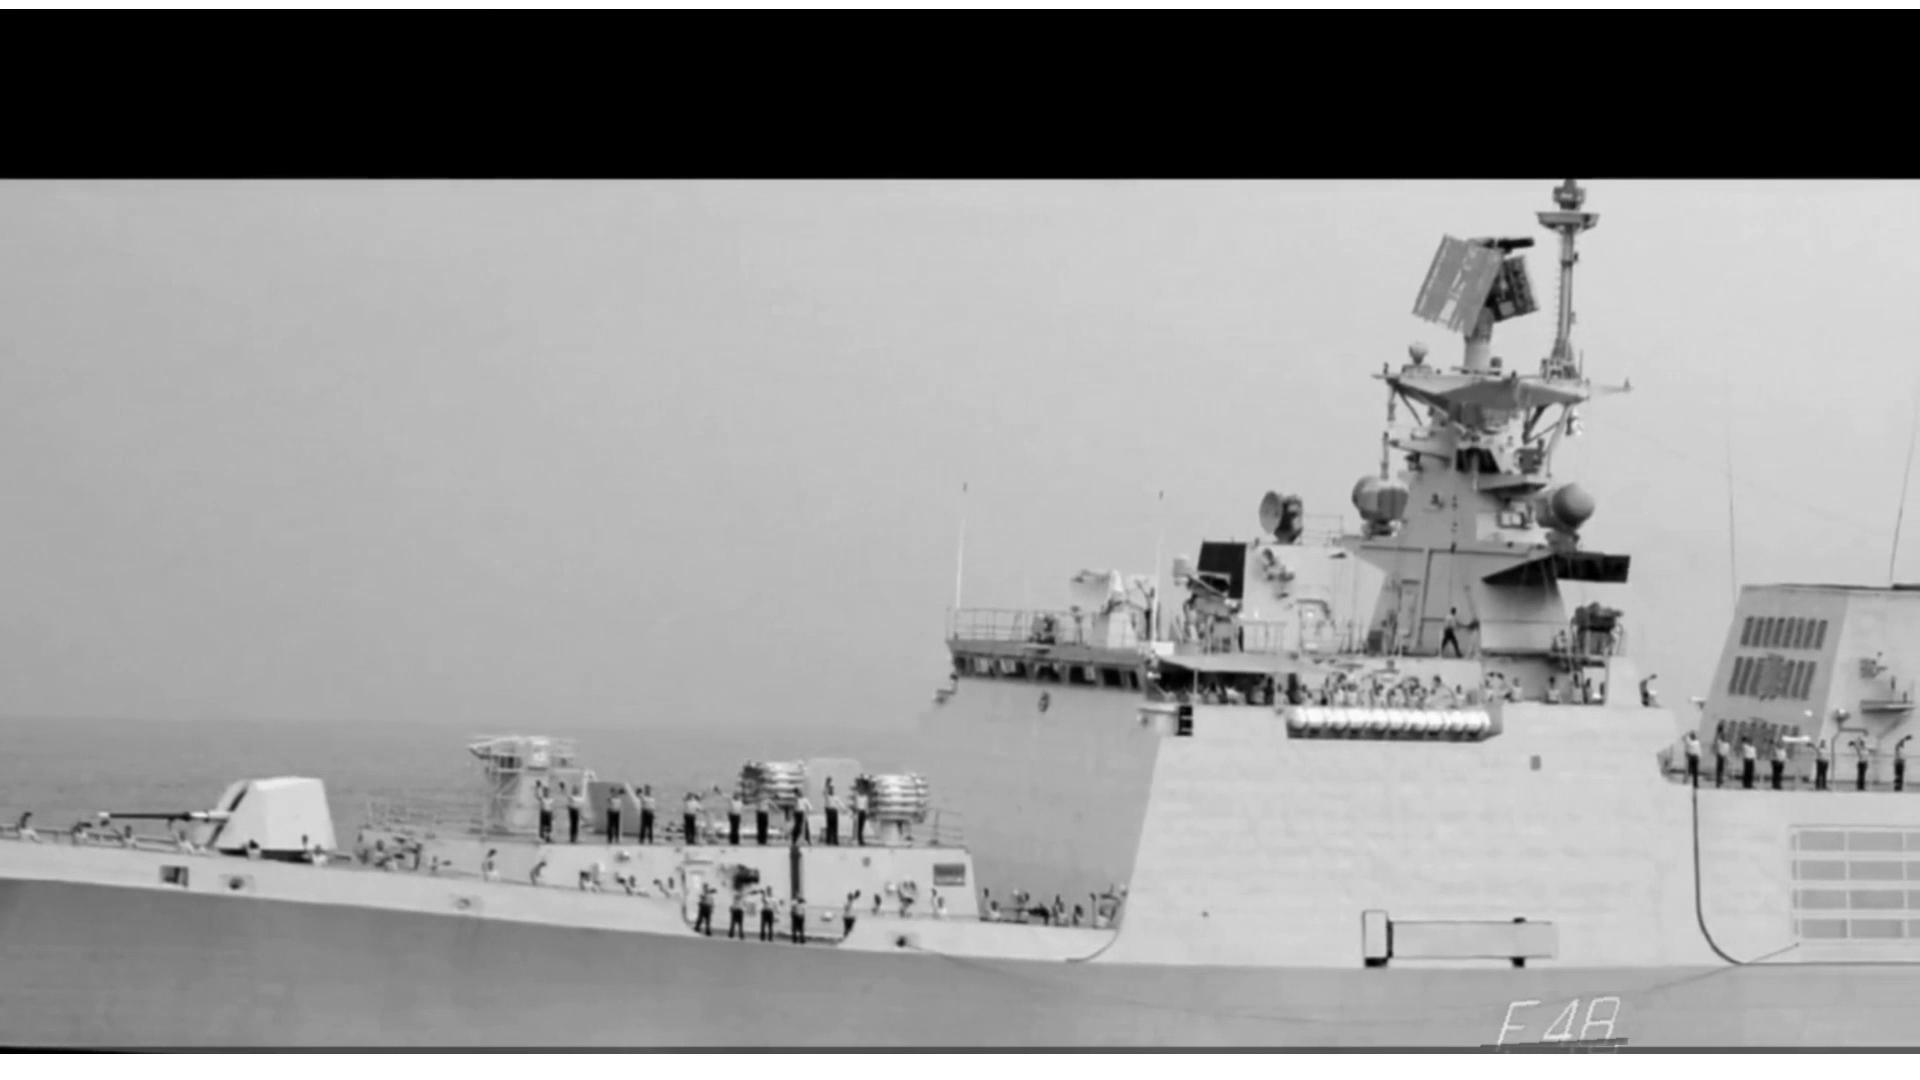OCR: (1481, 992, 1639, 1054)
